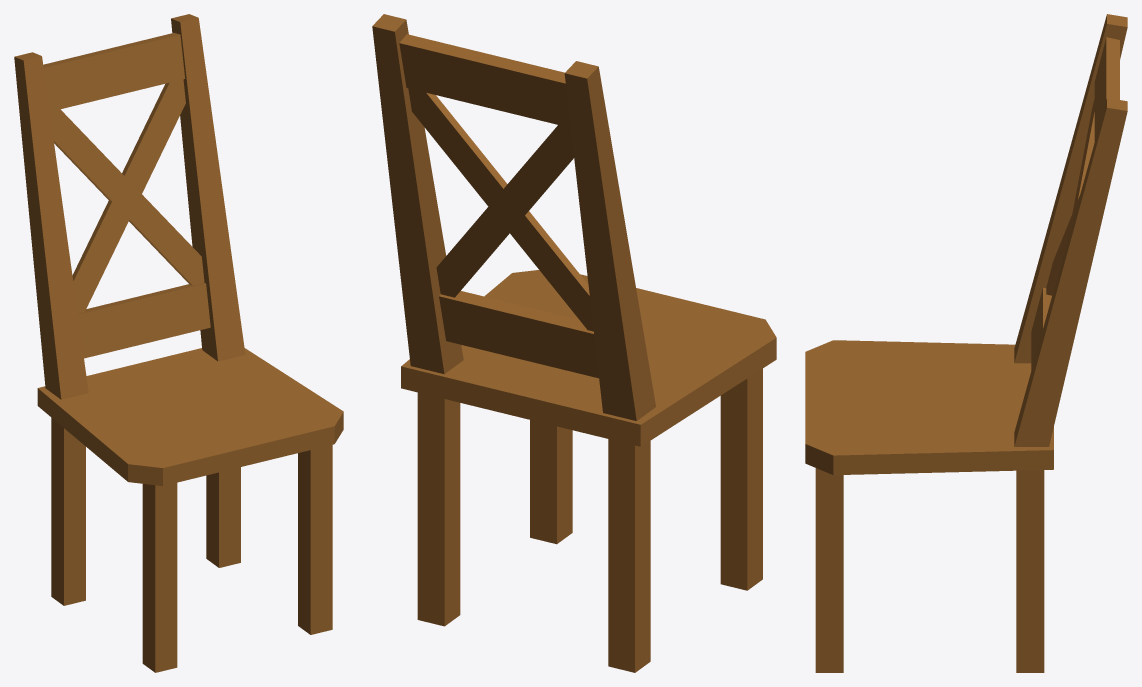
File: chair.glb
The picture shows the model from 3 angles, left to right: view 1: azimuth 30°, elevation 25°; view 2: azimuth 150°, elevation 25°; view 3: azimuth 270°, elevation 25°; orthographic projection. The views are drawn at different scales.
Parts seen in each view (by area): view 1: Cube.003; view 2: Cube.003; view 3: Cube.003.
Boxes of the visible parts, box(x1,y1,x2,y2) form: Cube.003: box(14, 14, 343, 672); Cube.003: box(372, 14, 776, 672); Cube.003: box(805, 14, 1127, 672).
Size of the model in its own units: 2.66 by 6.08 by 3.15.
